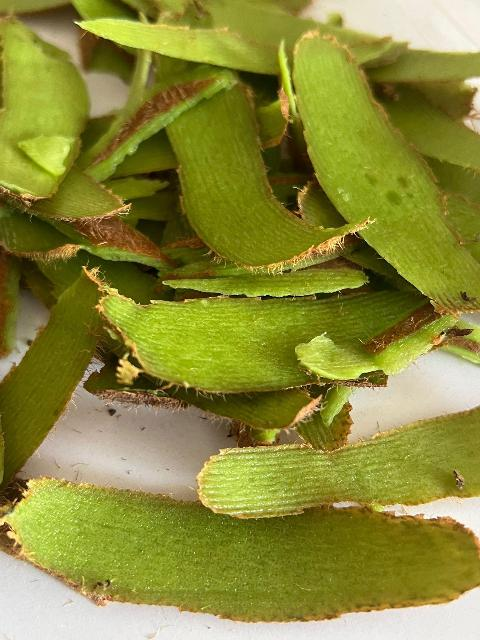Organik: (5, 477, 480, 630), (294, 34, 480, 309), (152, 73, 339, 280), (81, 272, 409, 389), (0, 283, 122, 483), (209, 420, 480, 509), (3, 3, 94, 216), (66, 9, 312, 83)
